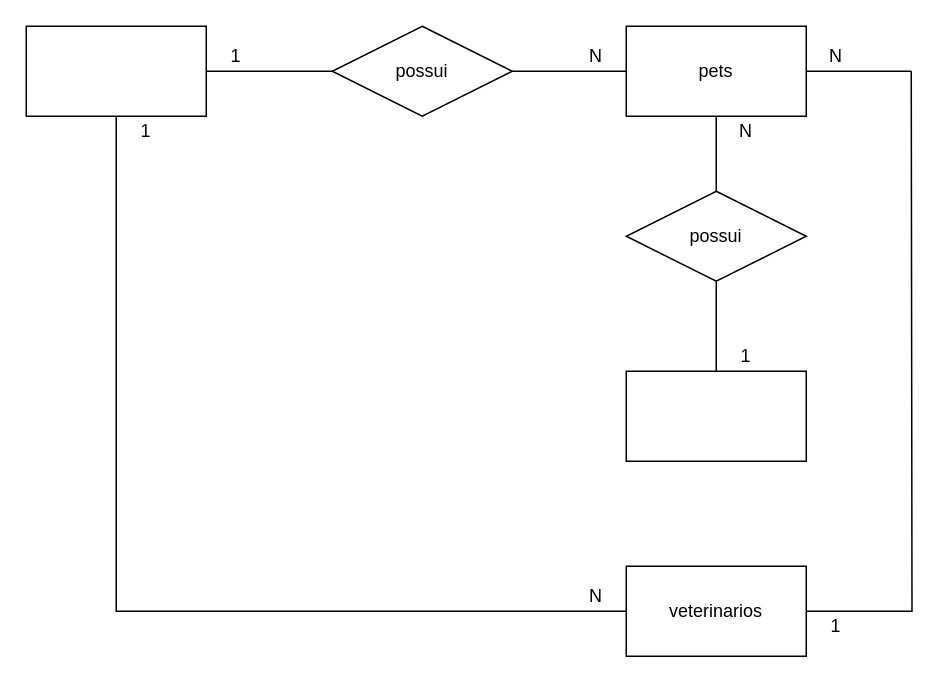
Some shapes in this 941 by 683 pixel diagram are drawn without their labels. The shapes that lost their labels are listed below. From the top down, each one's centre as x and y in pixels, then its label:
[115,70]: clinica
[715,415]: donos
